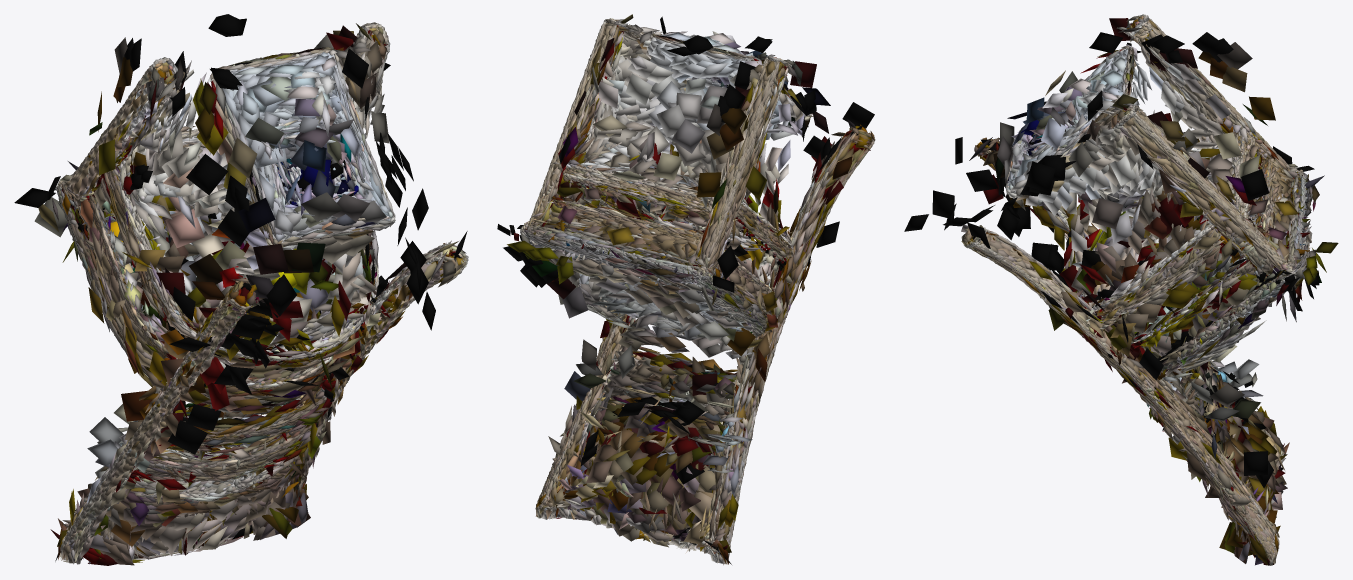
The model's file is chair_metric_splatmesh_flattened_pivot.glb.
3 renders of one model, left to right at view 1: azimuth 30°, elevation 25°; view 2: azimuth 150°, elevation 25°; view 3: azimuth 270°, elevation 25°, orthographic. The views are drawn at different scales.
Visible parts, largest first — view 1: world; view 2: world; view 3: world.
Boxes of the visible parts, x1,y1,x2,y2 form: world: (14,14,468,565); world: (497,14,875,565); world: (904,14,1338,565).
Bounding box in the file's own units: 0.5547 × 1.01 × 0.8387.
